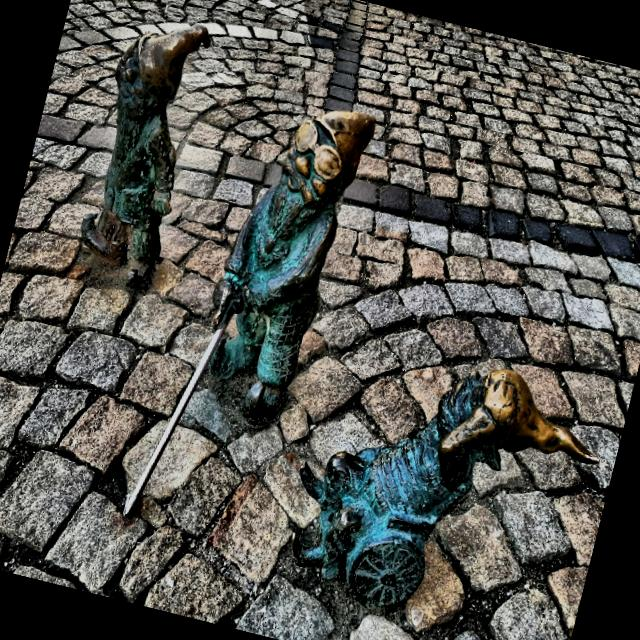Gluchak: (81, 25, 208, 287)
Slepak: (124, 111, 374, 515)
W-Skers: (292, 368, 597, 606)
